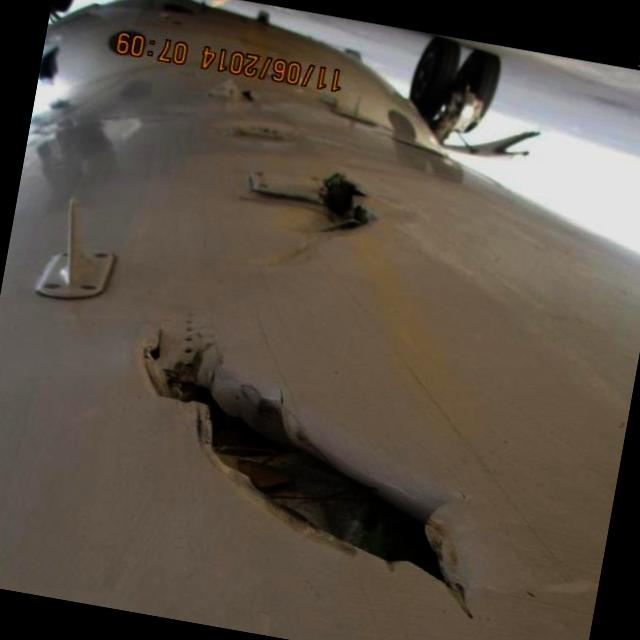crack: (100, 315, 512, 618)
